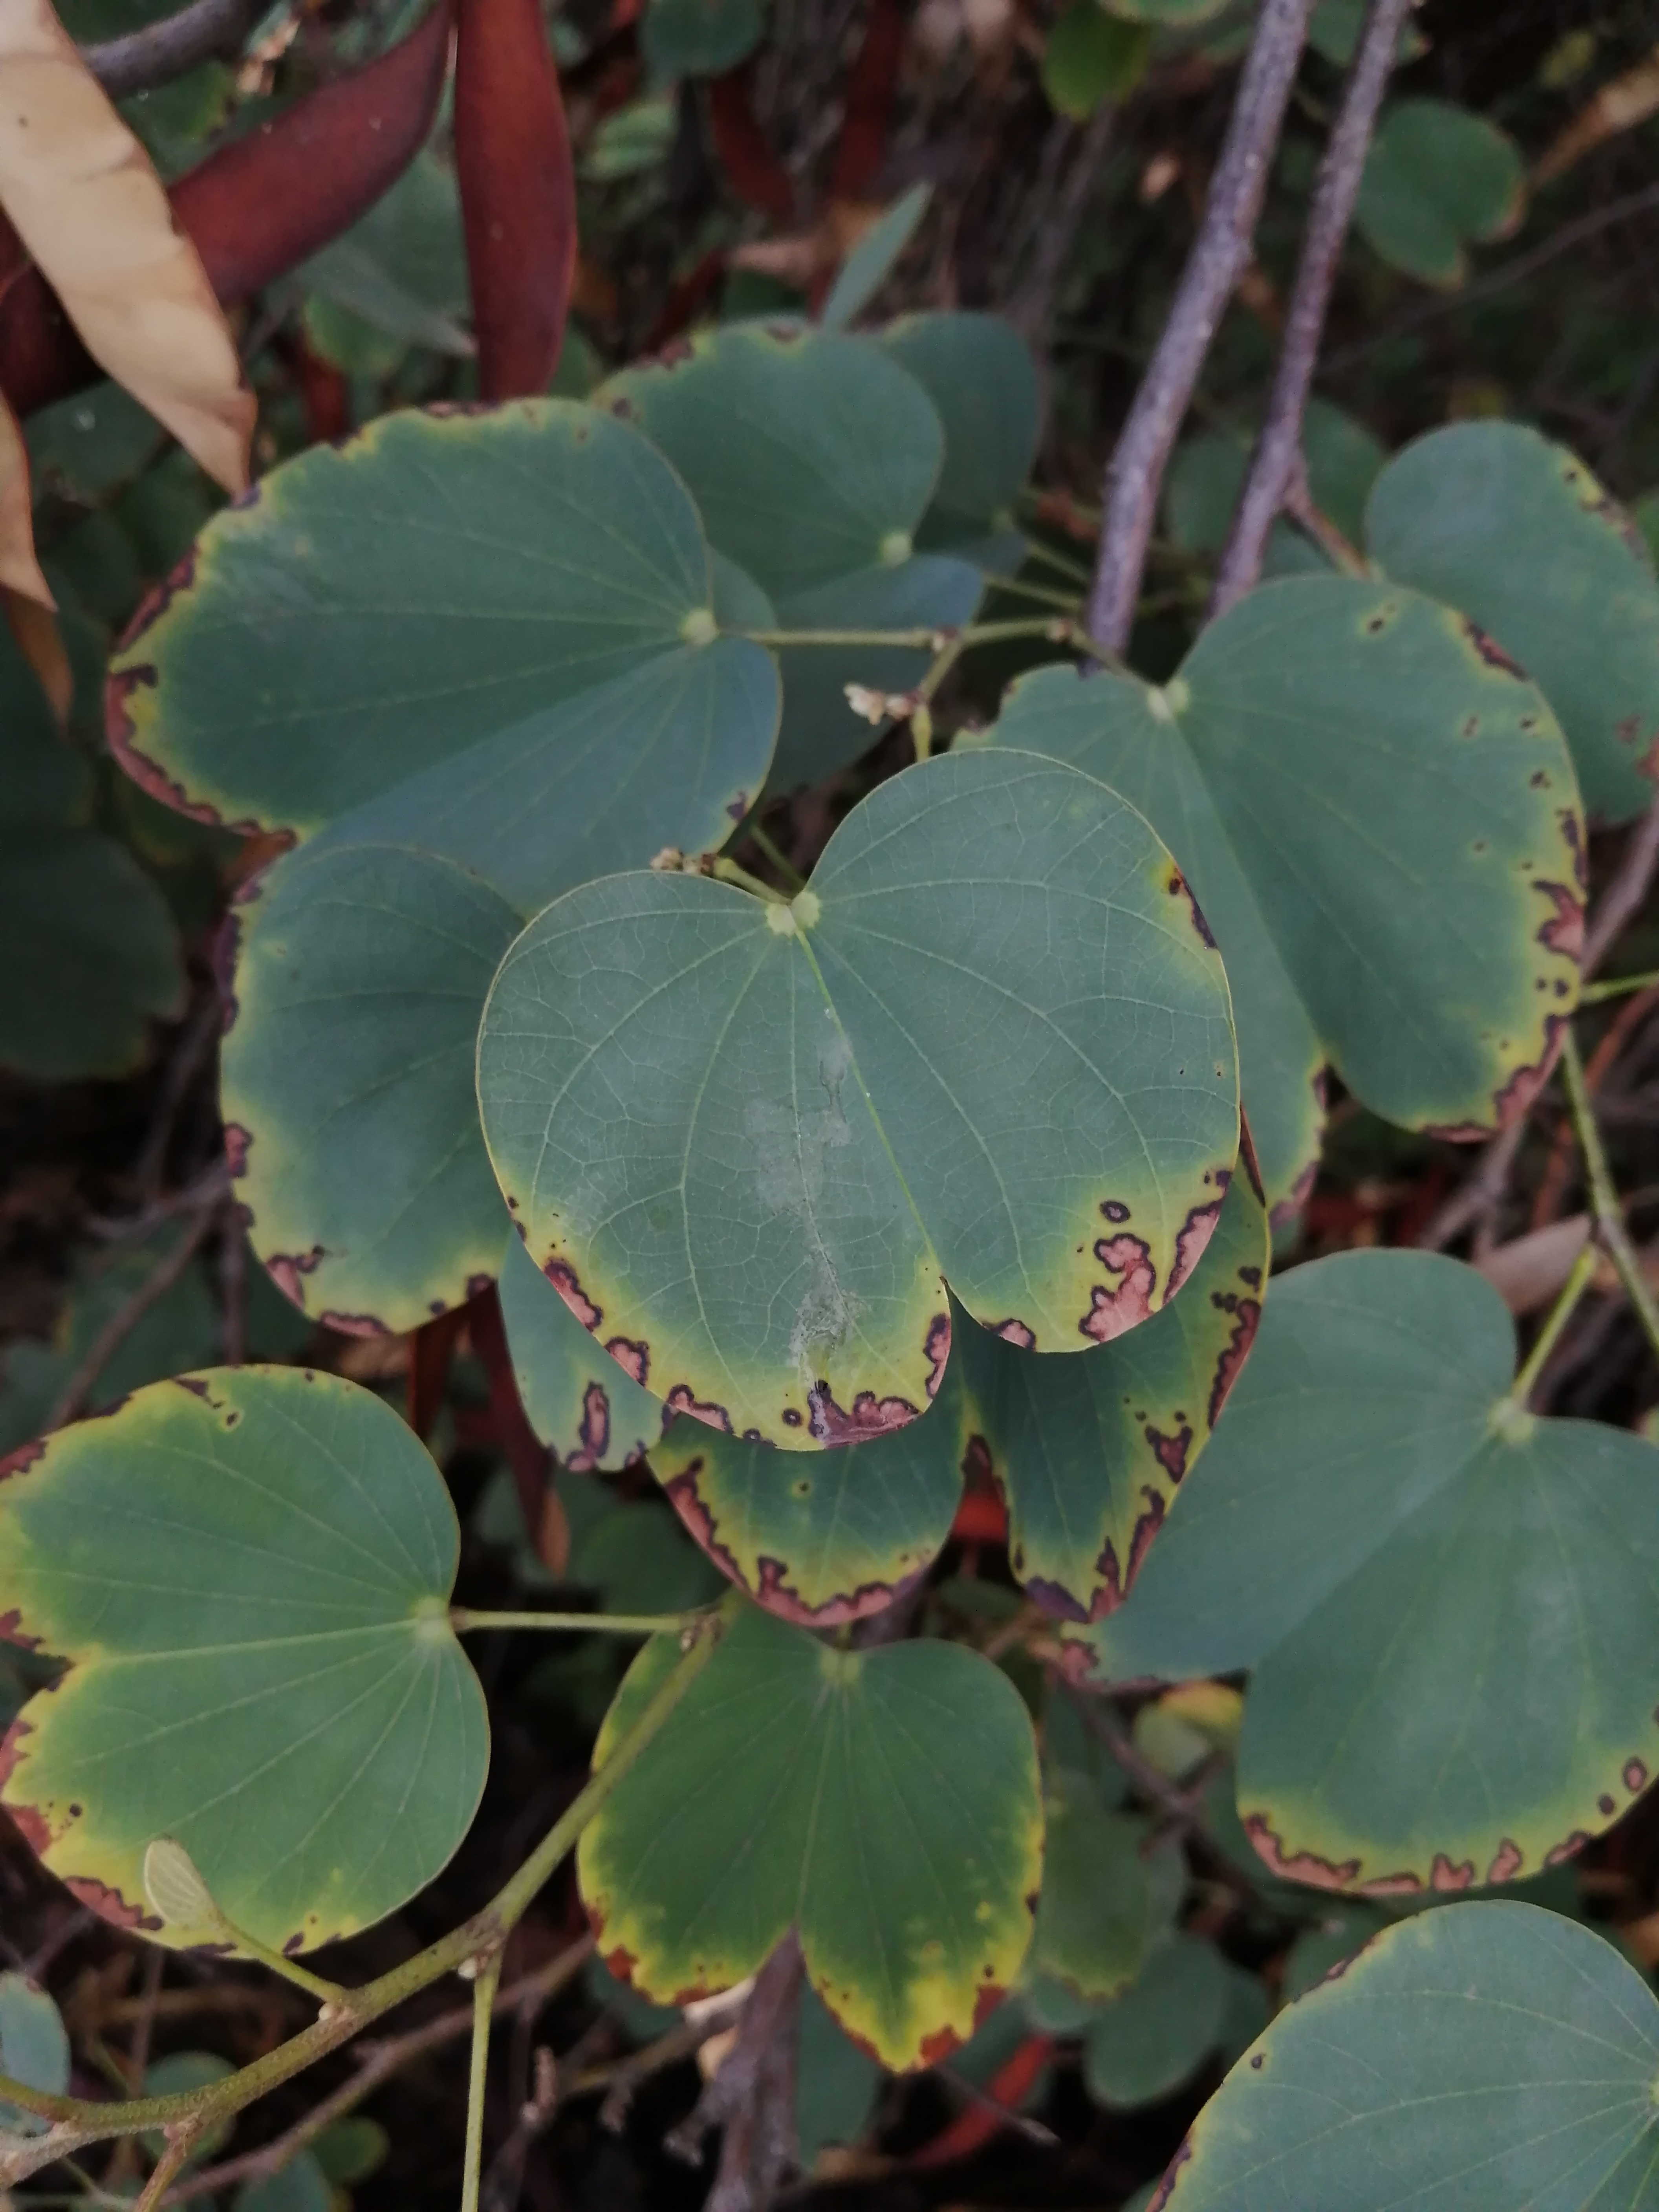nothealthy: (467, 704, 1248, 1472), (84, 368, 796, 1028), (918, 524, 1608, 1179), (0, 1345, 498, 1958), (556, 1590, 1068, 2080)
